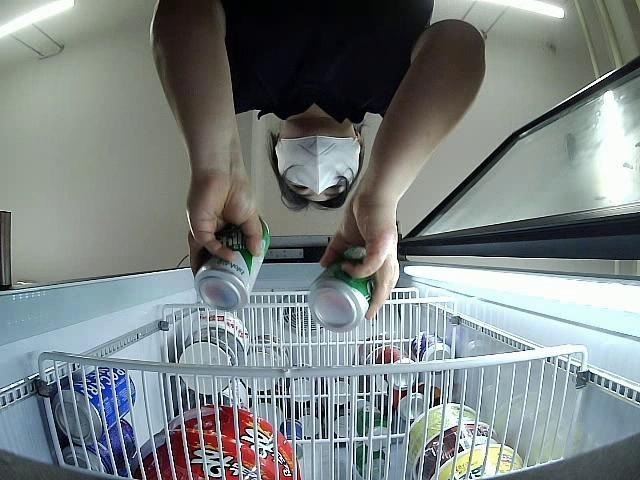12_chilsungCider: (192, 215, 269, 308), (306, 244, 375, 330)
